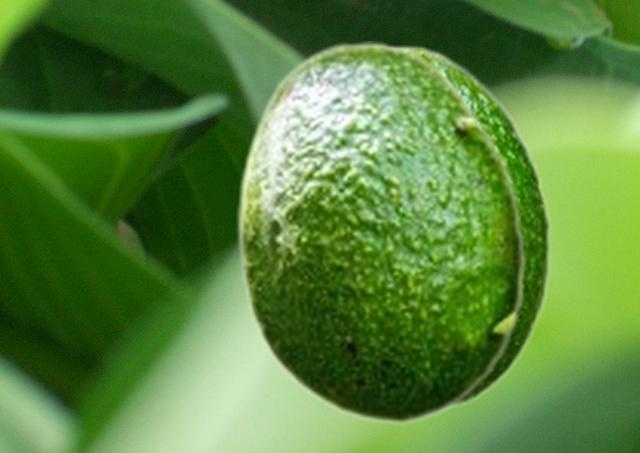avocado: (234, 41, 526, 424), (399, 44, 552, 412)
